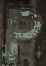Parking: (3, 1, 40, 65)
